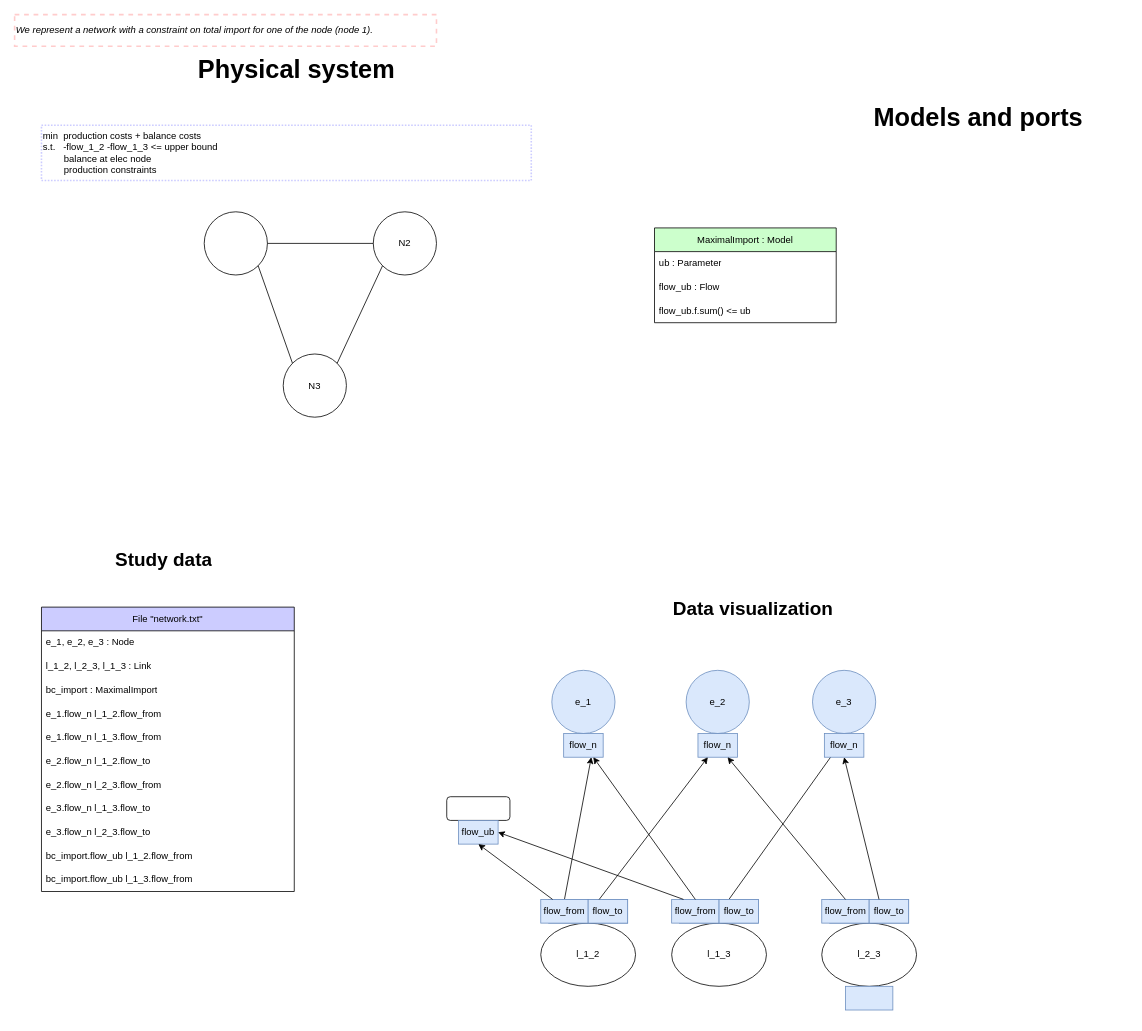
The diagram is 1142 pixels wide and 1031 high, and some of its shapes have lost their labels. The centre of each missing label's shape, as x and y in pixels:
bc_import: pixel 478 808
flow_pos: pixel 869 998
N1: pixel 235 243
